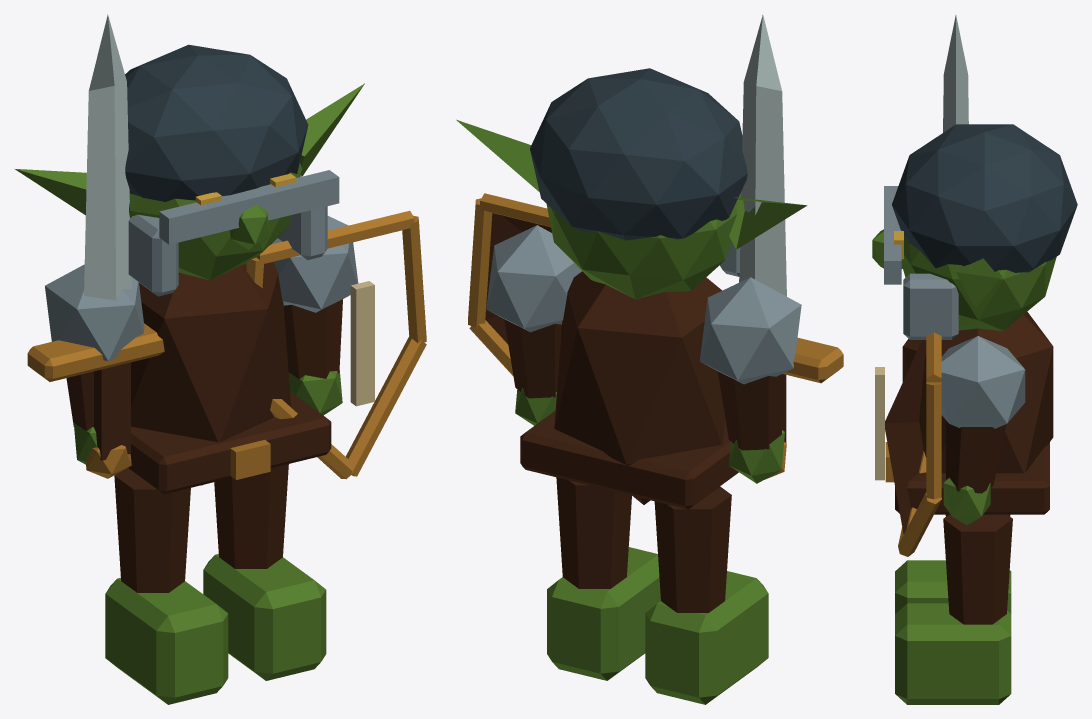
The model's file is GoblinWarrior.fbx.
The picture shows the model from 3 angles, left to right: view 1: azimuth 30°, elevation 25°; view 2: azimuth 150°, elevation 25°; view 3: azimuth 270°, elevation 25°; orthographic projection. The views are drawn at different scales.
Visible parts, largest first — view 1: Head.005_Mesh, Visual.005_Mesh, LeftArm.005_Mesh, RightLeg.005_Mesh, Grip.005_Mesh, LeftLeg.005_Mesh, RightArm.005_Mesh; view 2: Head.005_Mesh, Visual.005_Mesh, RightLeg.005_Mesh, LeftLeg.005_Mesh, LeftArm.005_Mesh, RightArm.005_Mesh, Grip.005_Mesh; view 3: Head.005_Mesh, LeftArm.005_Mesh, LeftLeg.005_Mesh, Visual.005_Mesh, RightLeg.005_Mesh, Grip.005_Mesh.
Part boxes in pixels (box(x1,y1,x2,y2)): Head.005_Mesh: box(15, 44, 364, 296); Visual.005_Mesh: box(128, 262, 331, 494); LeftArm.005_Mesh: box(246, 210, 426, 479); RightLeg.005_Mesh: box(105, 468, 228, 704); Grip.005_Mesh: box(27, 14, 164, 478); LeftLeg.005_Mesh: box(203, 464, 326, 680); RightArm.005_Mesh: box(45, 264, 144, 464); Head.005_Mesh: box(456, 68, 807, 299); Visual.005_Mesh: box(520, 271, 738, 509); RightLeg.005_Mesh: box(645, 486, 768, 704); LeftLeg.005_Mesh: box(547, 477, 660, 680); LeftArm.005_Mesh: box(468, 193, 581, 425); RightArm.005_Mesh: box(700, 277, 801, 483); Grip.005_Mesh: box(739, 15, 843, 479); Head.005_Mesh: box(872, 124, 1077, 339); LeftArm.005_Mesh: box(875, 332, 1025, 556); LeftLeg.005_Mesh: box(895, 514, 1012, 704); Visual.005_Mesh: box(885, 311, 1053, 514); RightLeg.005_Mesh: box(895, 514, 1011, 613); Grip.005_Mesh: box(943, 15, 968, 132).
Size of the model in its own units: 0.6114 by 1.05 by 0.3193.
